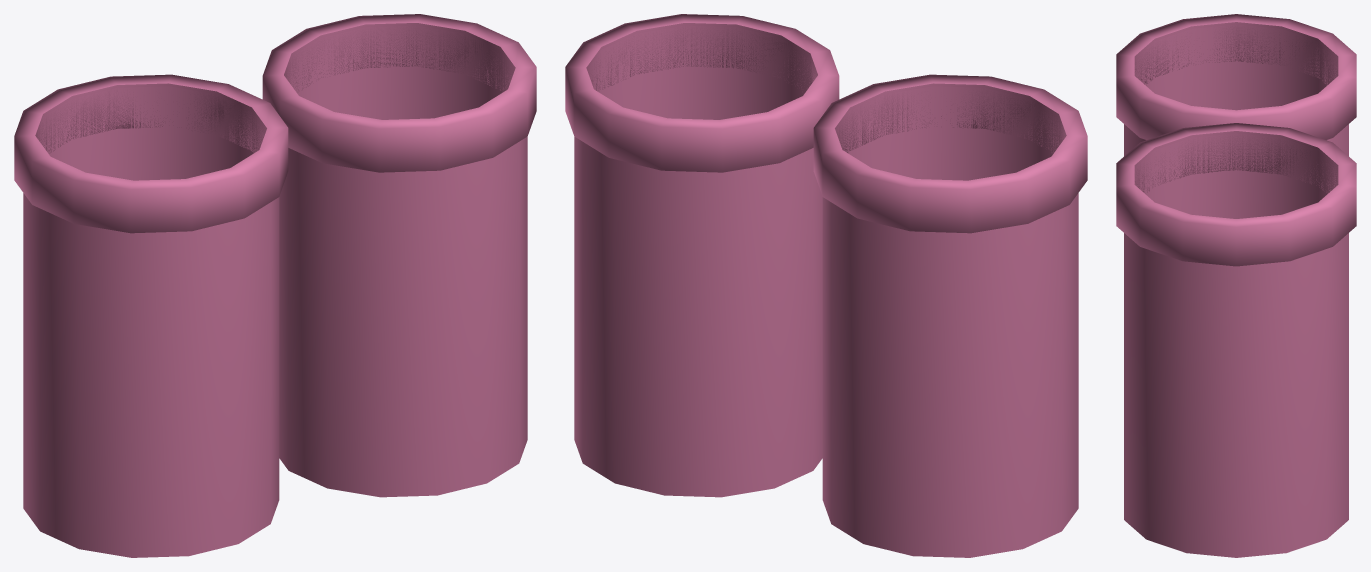
File: neon_leggings.glb
The picture shows the model from 3 angles, left to right: view 1: azimuth 30°, elevation 25°; view 2: azimuth 150°, elevation 25°; view 3: azimuth 270°, elevation 25°; orthographic projection. The views are drawn at different scales.
Visible parts, largest first — view 1: neon_leggings_LegL, neon_leggings_LegR; view 2: neon_leggings_LegL, neon_leggings_LegR; view 3: neon_leggings_LegR, neon_leggings_LegL.
Part boxes in pixels (<box>): neon_leggings_LegL: <box>14,74,288,557</box>; neon_leggings_LegR: <box>262,14,536,497</box>; neon_leggings_LegL: <box>813,74,1087,557</box>; neon_leggings_LegR: <box>565,14,839,497</box>; neon_leggings_LegR: <box>1116,123,1356,557</box>; neon_leggings_LegL: <box>1116,14,1356,155</box>.
Bounding box in the file's own units: 0.372 × 0.272 × 0.1774.
